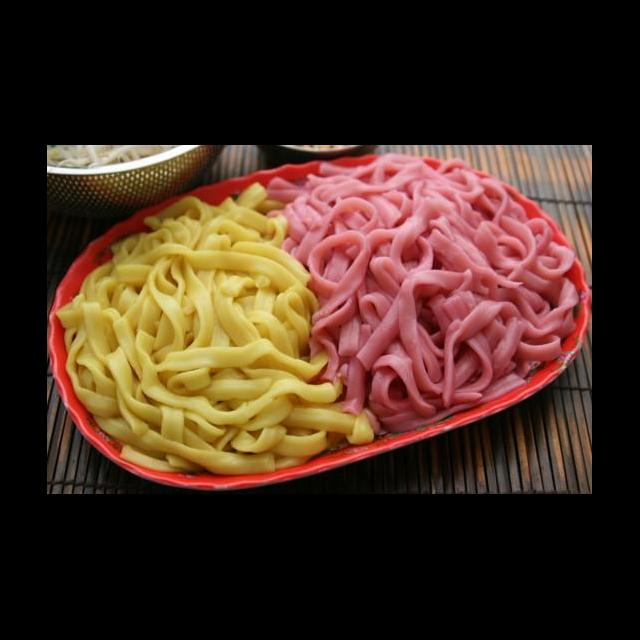mi: (52, 180, 380, 480), (258, 150, 584, 440)
